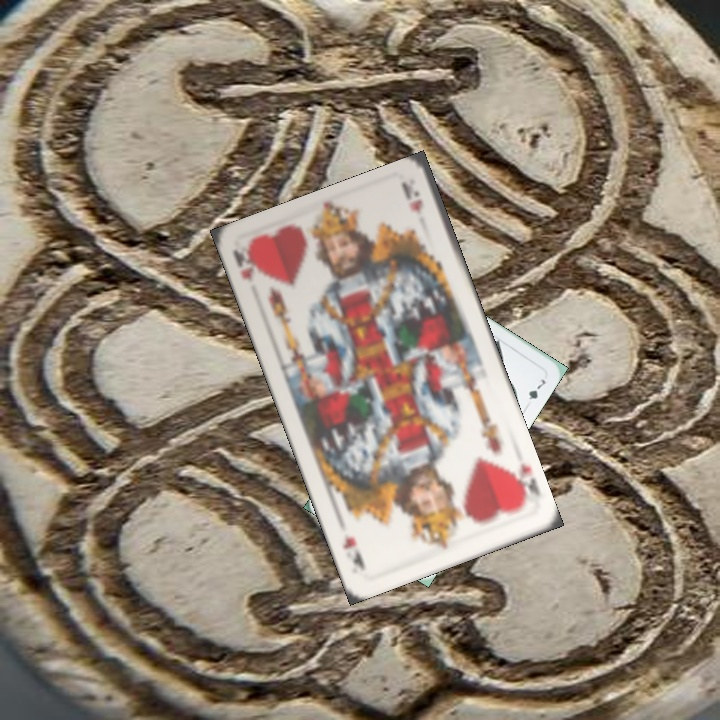HK: (504, 459, 543, 510), (229, 242, 262, 286)
